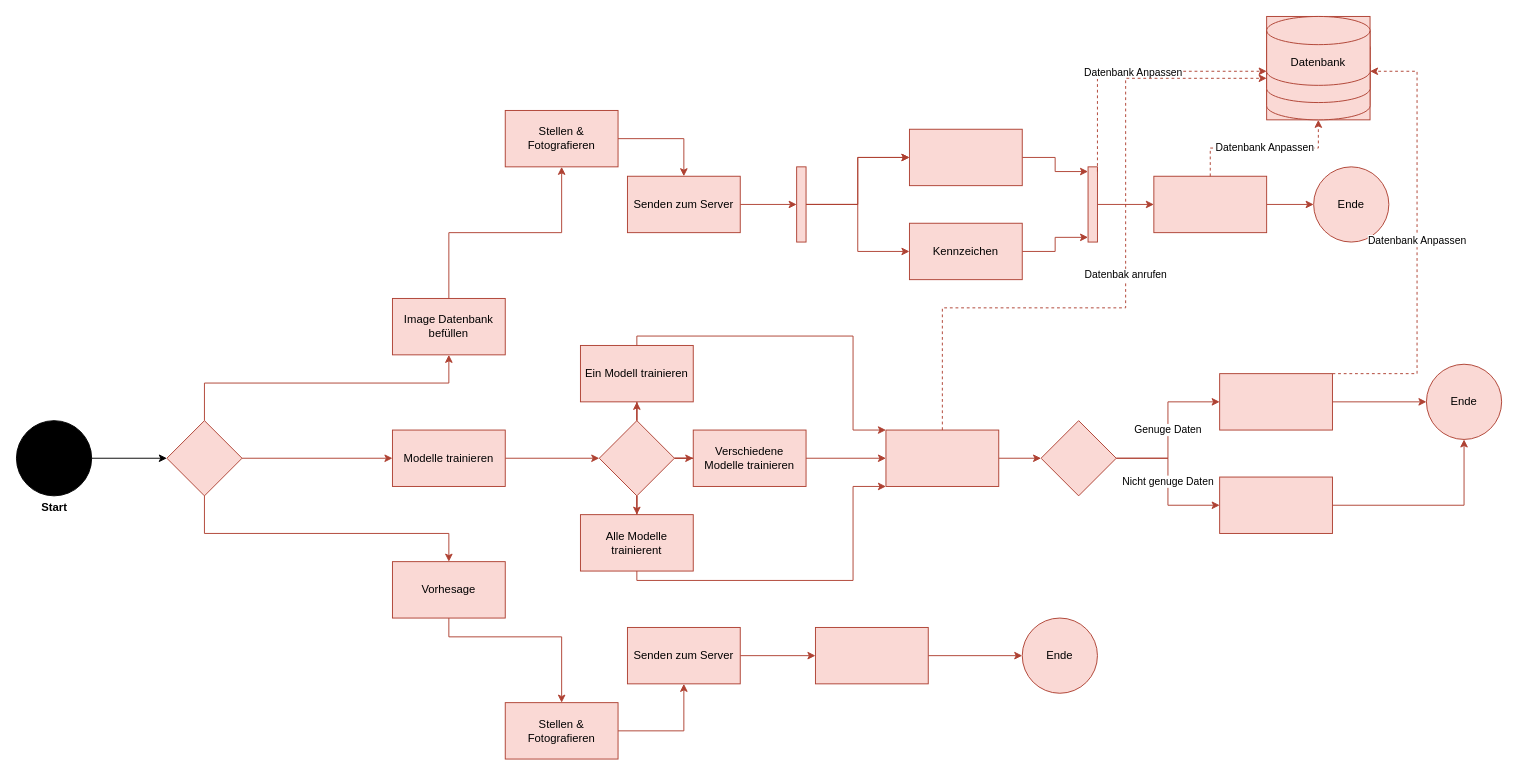
Some shapes in this 1518 by 776 pixel diagram are drawn without their labels. Each missing label, with the centre of its shape:
"Datenbank prüfen" belongs at pixel 942 457.
"Nicht tranieren" belongs at pixel 1275 504.
"Speichern & TFRecording" belongs at pixel 965 157.
"Trainieren" belongs at pixel 1275 401.
"Vorhersage berechnen" belongs at pixel 871 655.
"Vorverarbeitung" belongs at pixel 1210 204.
